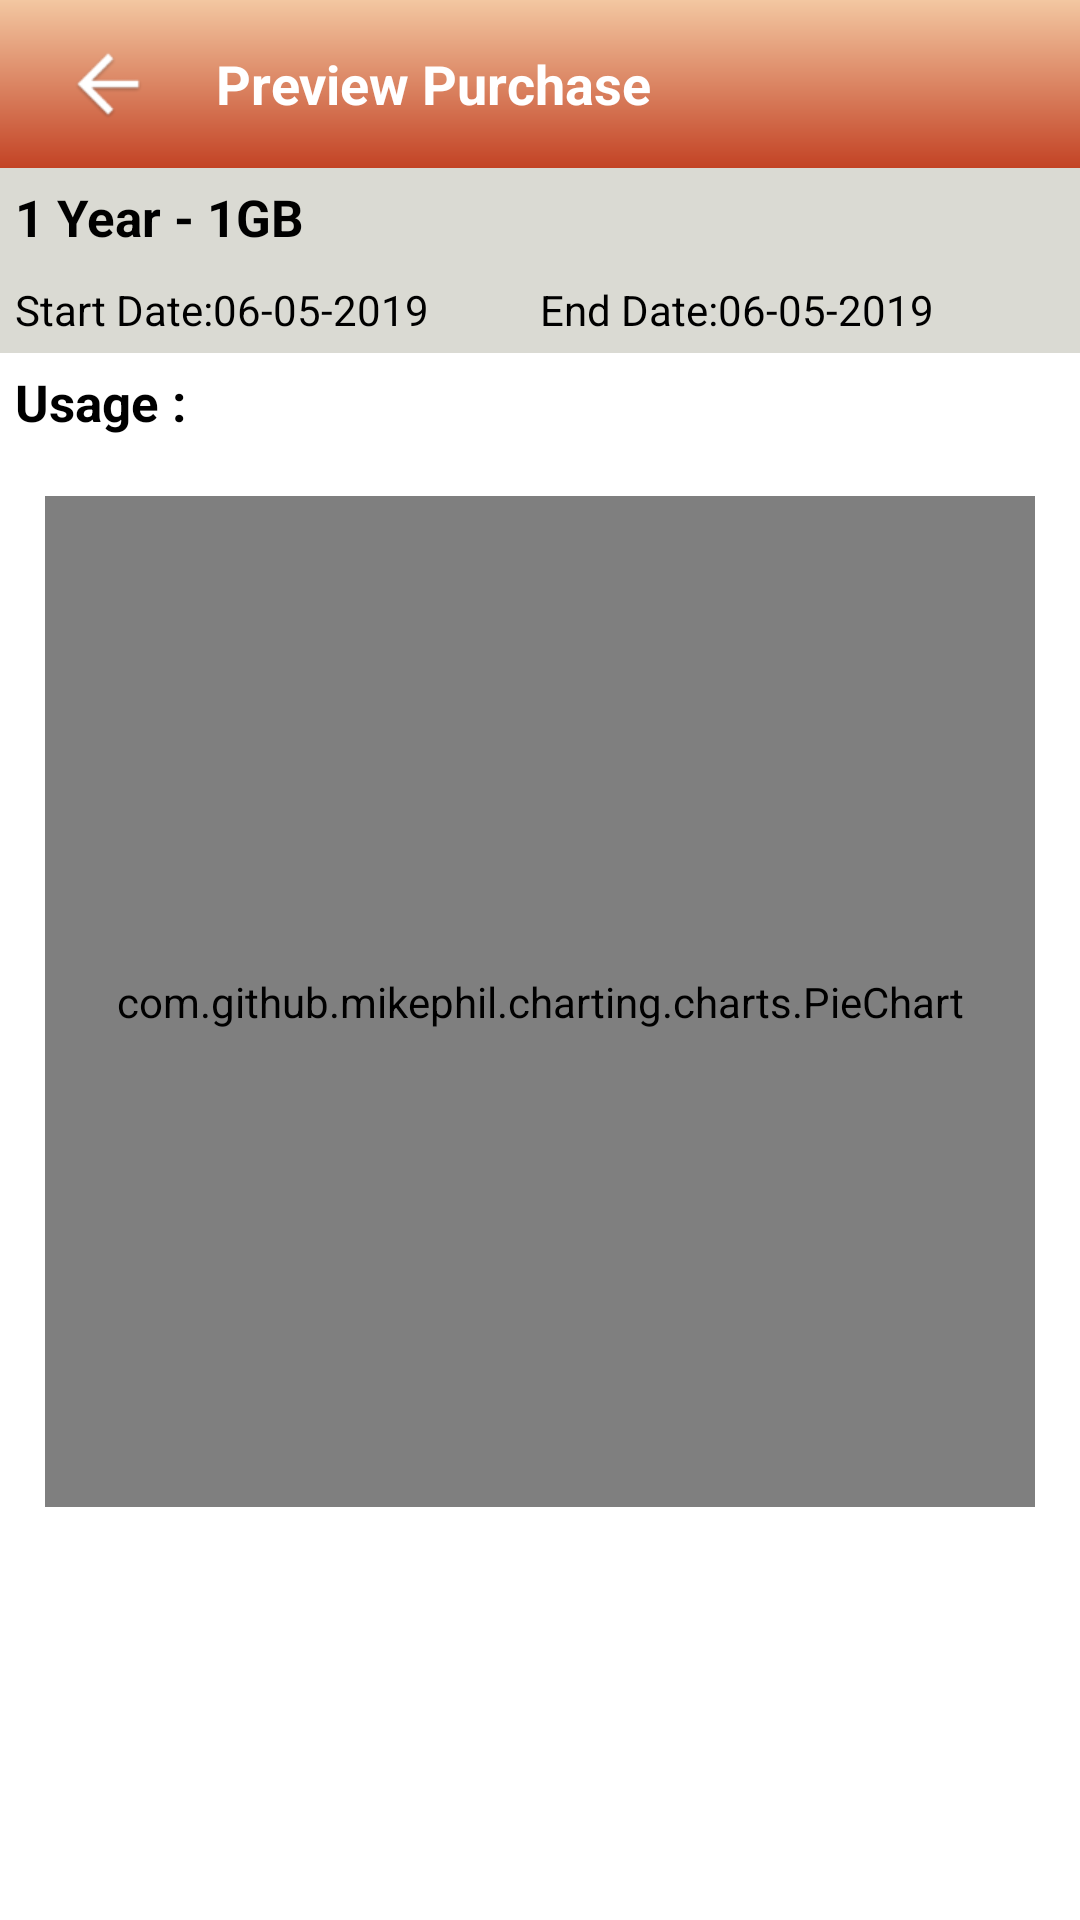

Where to tap for icons on this 1080 x 1920 app screen, as [x,y]:
custom back: [108,84]
